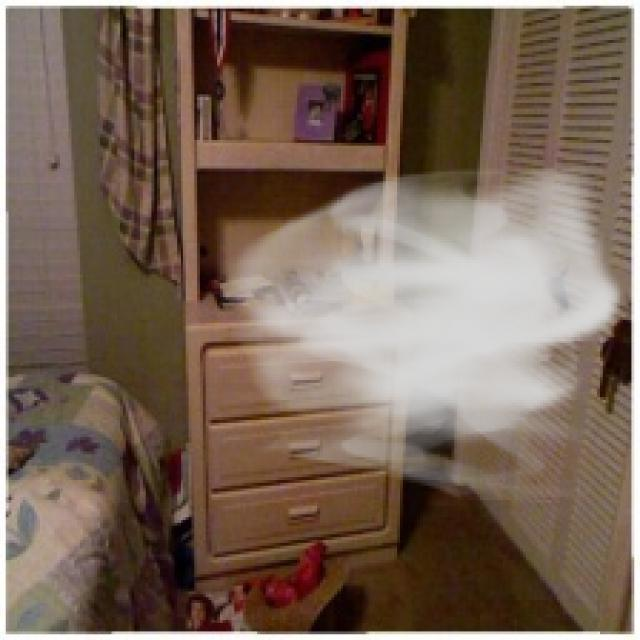Smoke: (214, 157, 626, 506)
